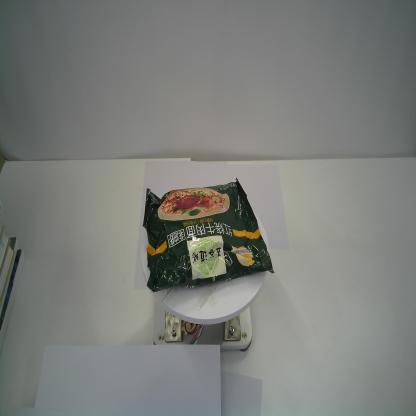Instant Noodles: (142, 176, 274, 294)
